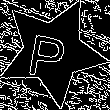P_N: (30, 24, 75, 80)
